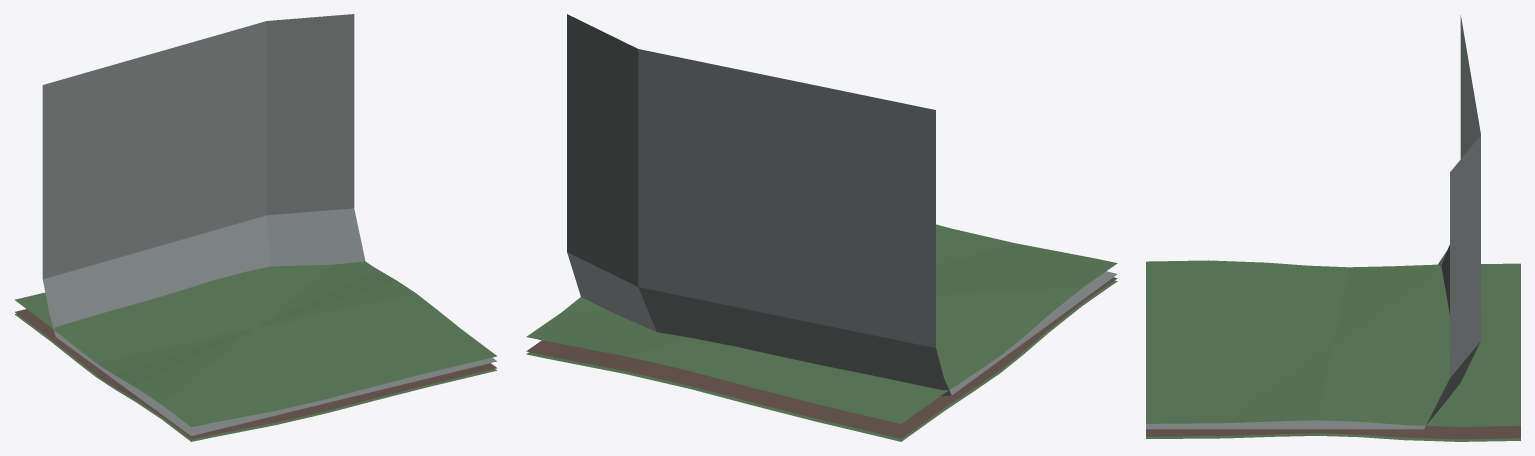
Rendered from cell_165.obj.
The picture shows the model from 3 angles, left to right: view 1: azimuth 30°, elevation 25°; view 2: azimuth 150°, elevation 25°; view 3: azimuth 270°, elevation 25°; orthographic projection. The views are drawn at different scales.
Size of the model in its own units: 1 by 0.7935 by 1.
